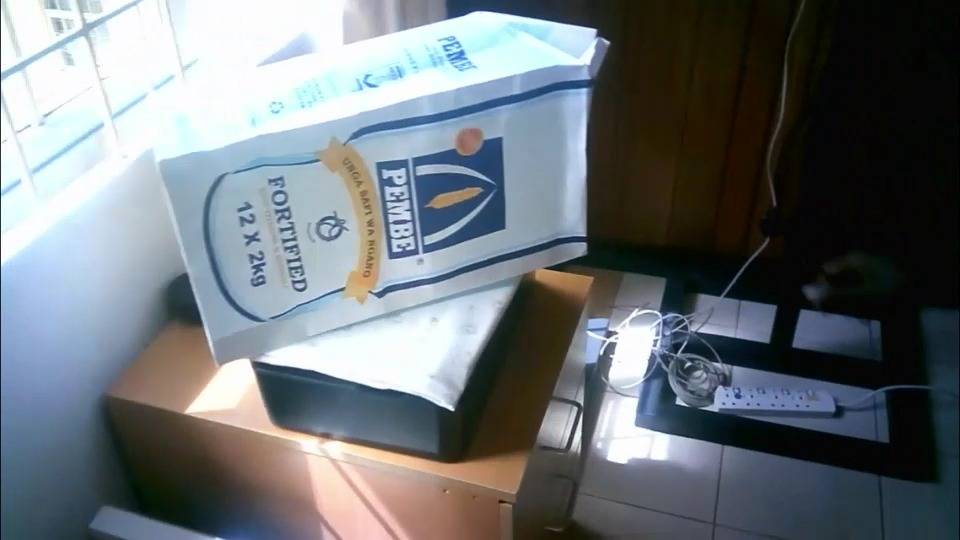wheat_flour_blue_label: (145, 11, 611, 364)
